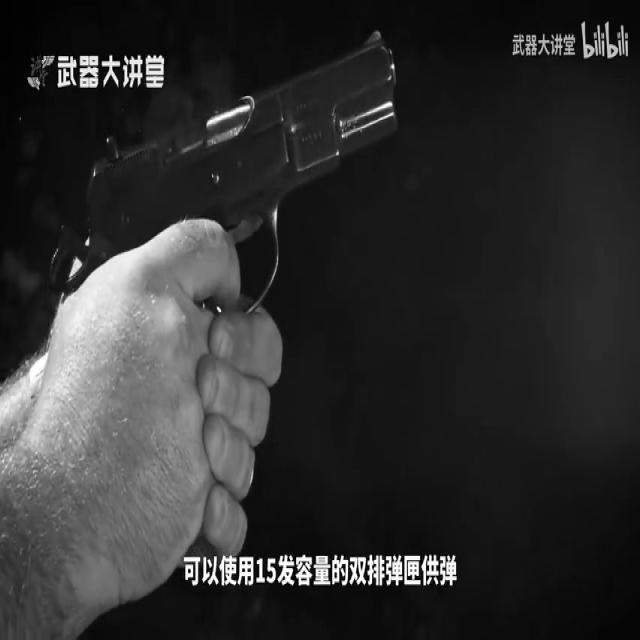Hand-Gun: (56, 18, 410, 399)
